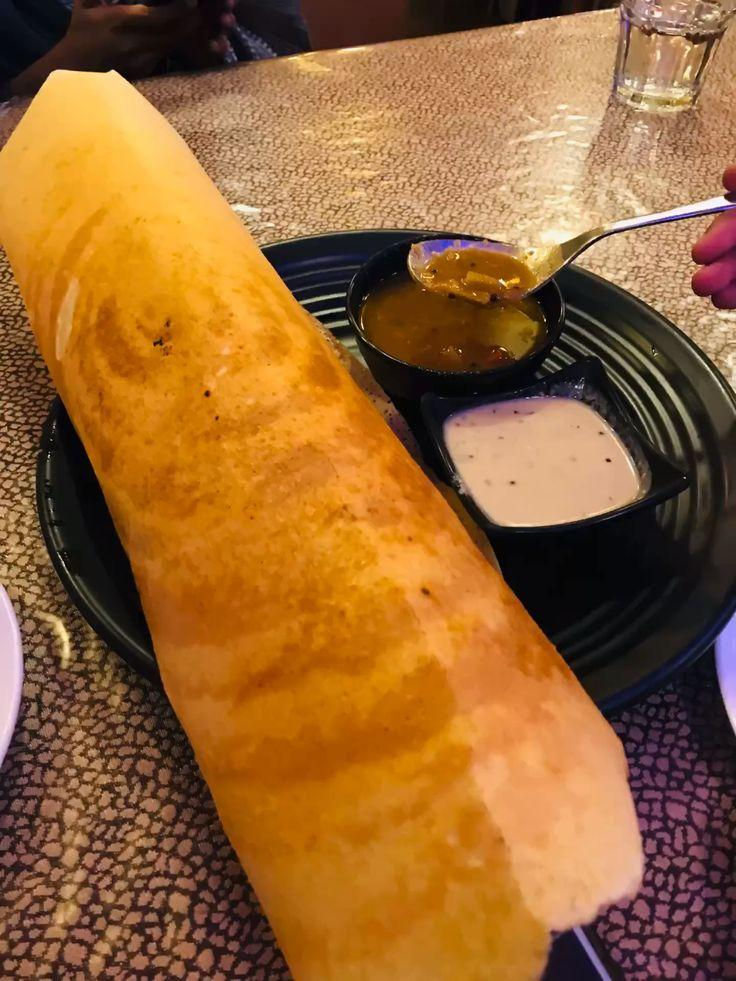dosa: (0, 109, 583, 981)
